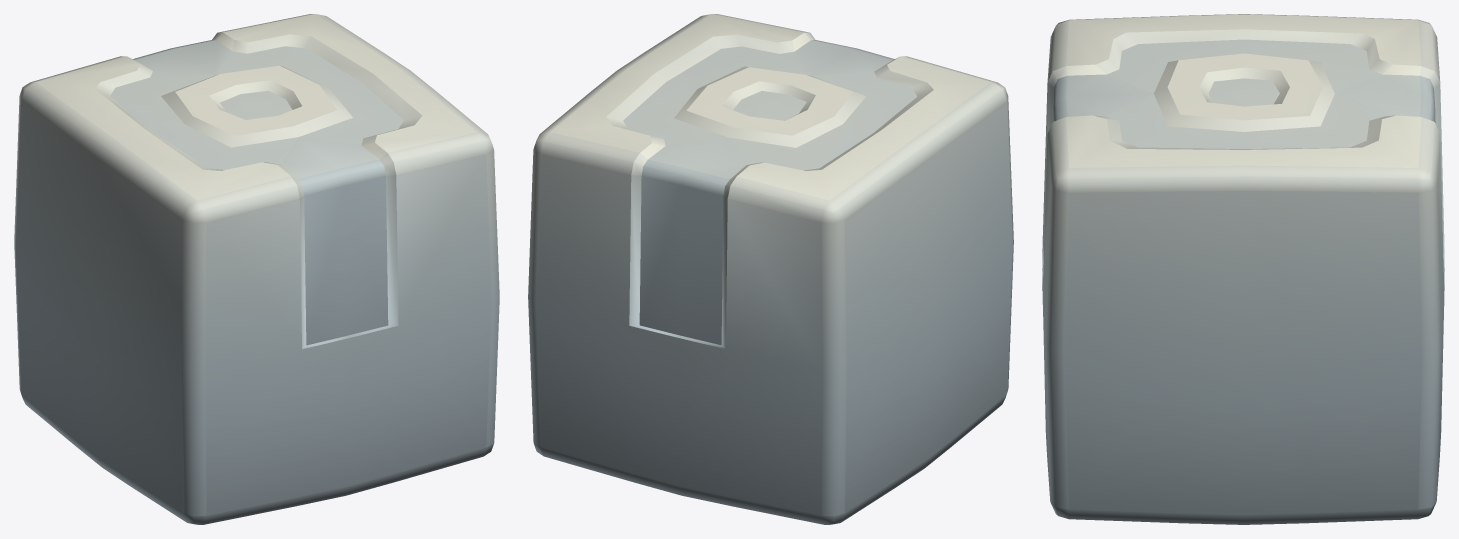
Rendered from Quartz_Free2_Straight.fbx.
3 views of the same model, side by side, from view 1: azimuth 30°, elevation 25°; view 2: azimuth 150°, elevation 25°; view 3: azimuth 270°, elevation 25° (orthographic). The views are drawn at different scales.
Parts seen in each view (by area): view 1: Quartz_Free2_Straight_LOD0; view 2: Quartz_Free2_Straight_LOD0; view 3: Quartz_Free2_Straight_LOD0.
Part boxes in pixels (<box>): Quartz_Free2_Straight_LOD0: <box>14,14,499,524</box>; Quartz_Free2_Straight_LOD0: <box>528,14,1013,524</box>; Quartz_Free2_Straight_LOD0: <box>1042,14,1444,524</box>.
Size of what is drawn, in the model's own units: 1.09 by 1.09 by 1.09.
